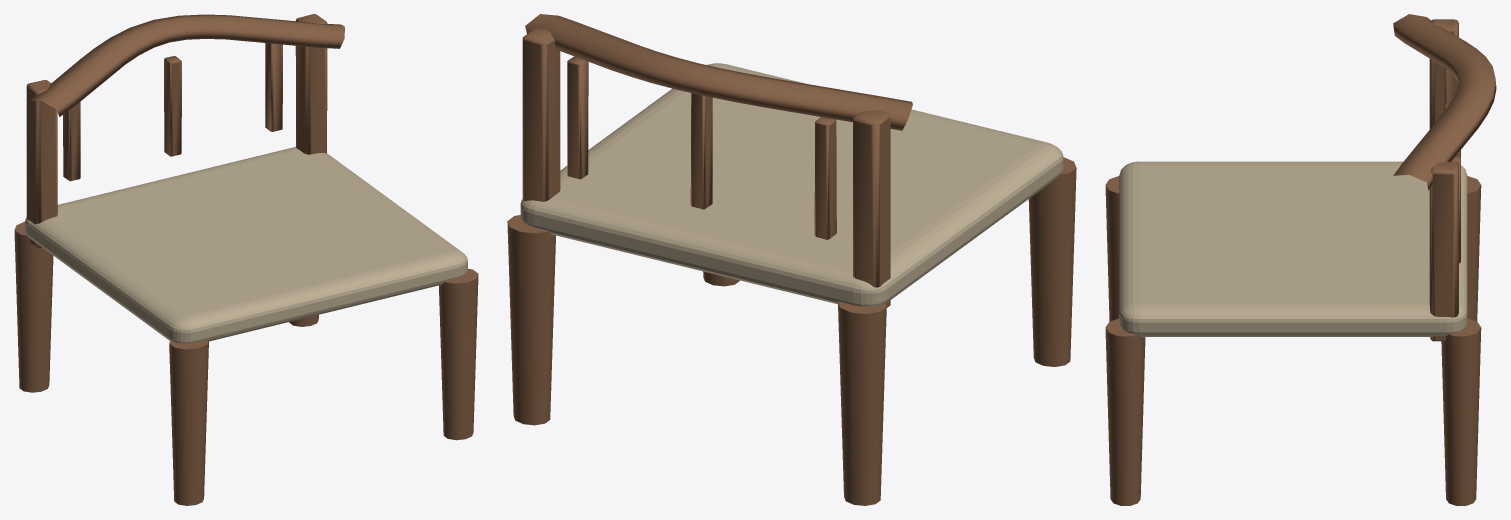
File: classroom-chair.lod.glb
3 views of the same model, side by side, from view 1: azimuth 30°, elevation 25°; view 2: azimuth 150°, elevation 25°; view 3: azimuth 270°, elevation 25° (orthographic). The views are drawn at different scales.
Parts seen in each view (by area): view 1: tailored-cushion, part; view 2: tailored-cushion, part; view 3: tailored-cushion, part.
Part boxes in pixels (x1=…): tailored-cushion: x1=25, y1=147, x2=467, y2=343; part: x1=14, y1=14, x2=478, y2=505; tailored-cushion: x1=520, y1=63, x2=1063, y2=306; part: x1=507, y1=14, x2=1076, y2=505; tailored-cushion: x1=1119, y1=161, x2=1467, y2=336; part: x1=1105, y1=14, x2=1496, y2=505.
Size of the model in its own units: 1 by 1 by 1.
